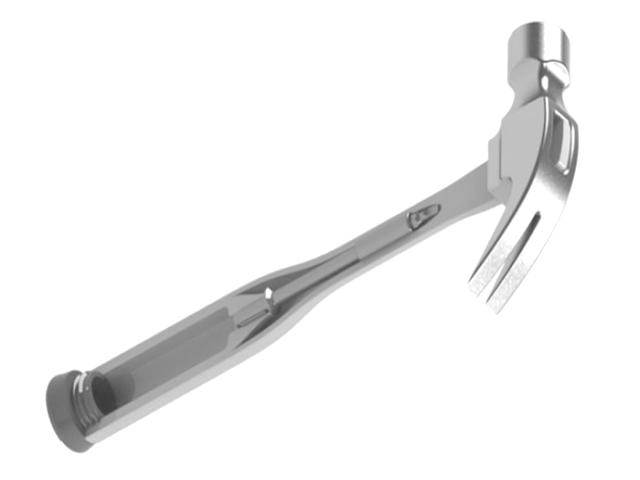Hammer: (46, 21, 579, 453)
